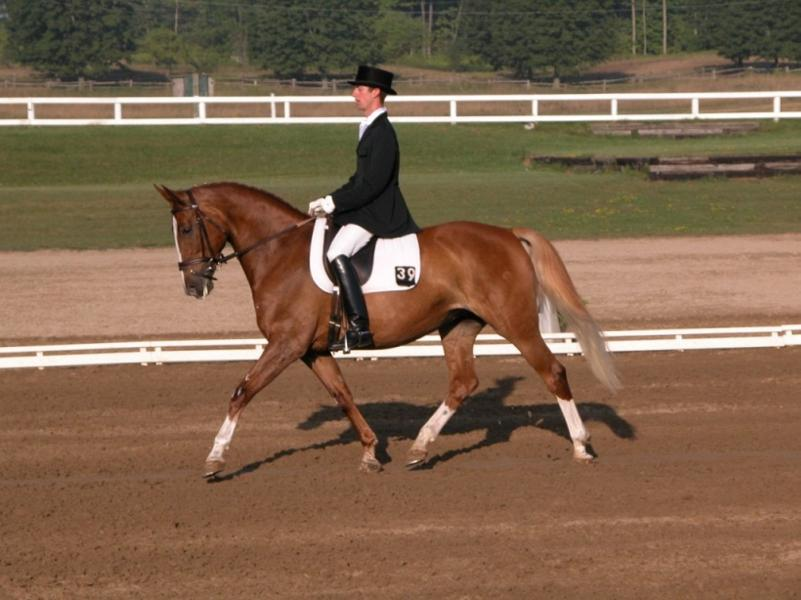person: (308, 61, 422, 354)
